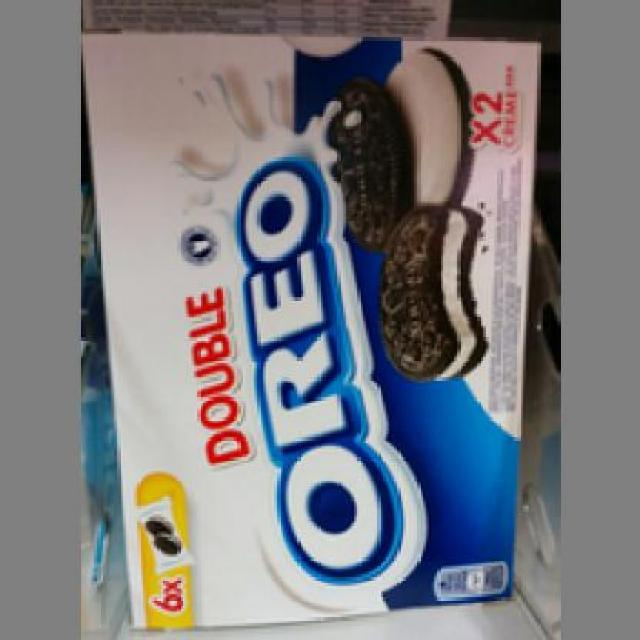Chocolate: (80, 31, 543, 632)
